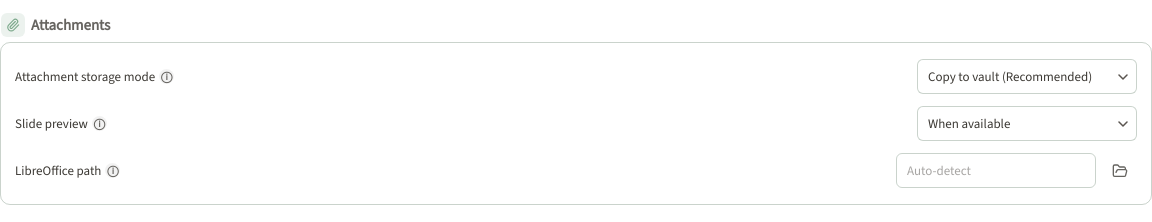
Test case: AttachmentStorageSection › 찾아보기 버튼이 파일 피커에서 고른 경로를 그대로 저장한다
Click the button with test id "settings-soffice-browse" at (1120, 170), box [1102,153,1137,188]
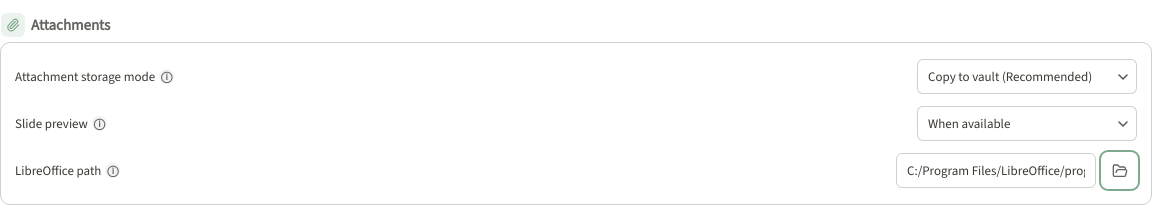
Now the field named "LibreOffice path" holds "C:/Program Files/LibreOffice/program/soffice.exe", box [896,153,1096,188]
